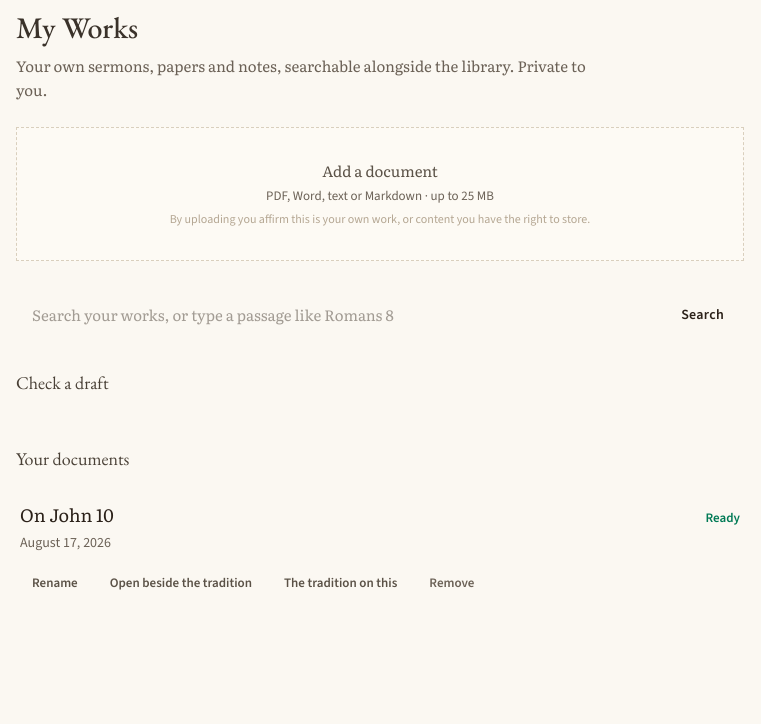
Test: D17 — search results carry the document date › a hit row renders its document's date
Expected: the text "On John 10" is shown, [20,501,114,528]
Type "grace" into the search field labelled "Search your works" at point(335, 315), box [16,293,653,337]
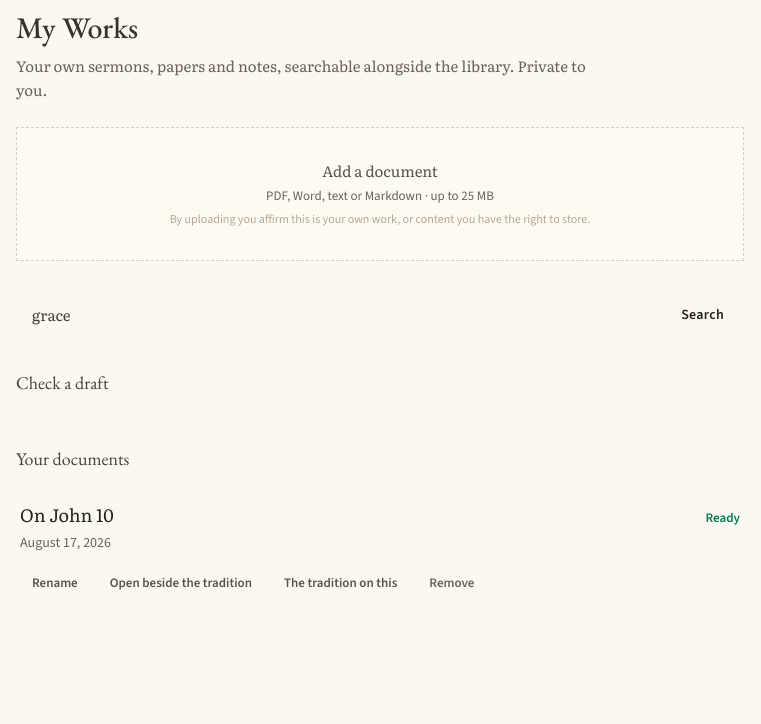
Click the button "Search" at point(703, 315), box [661,293,744,337]
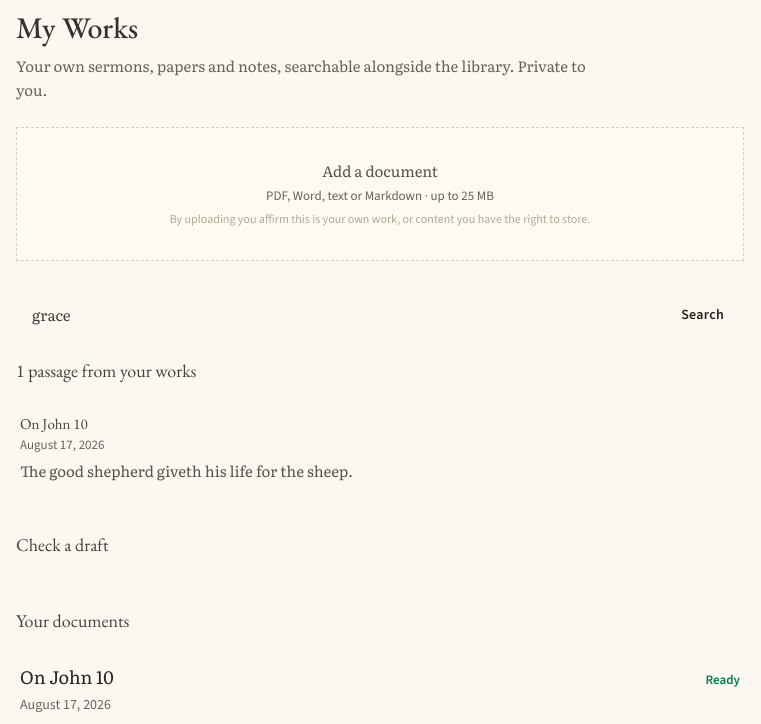
Now the text "The good shepherd giveth his life for the sheep." is shown, box [20,459,353,482]
